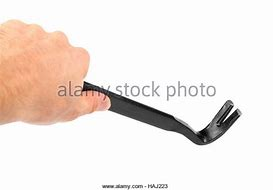crowbar: (11, 31, 243, 146)
